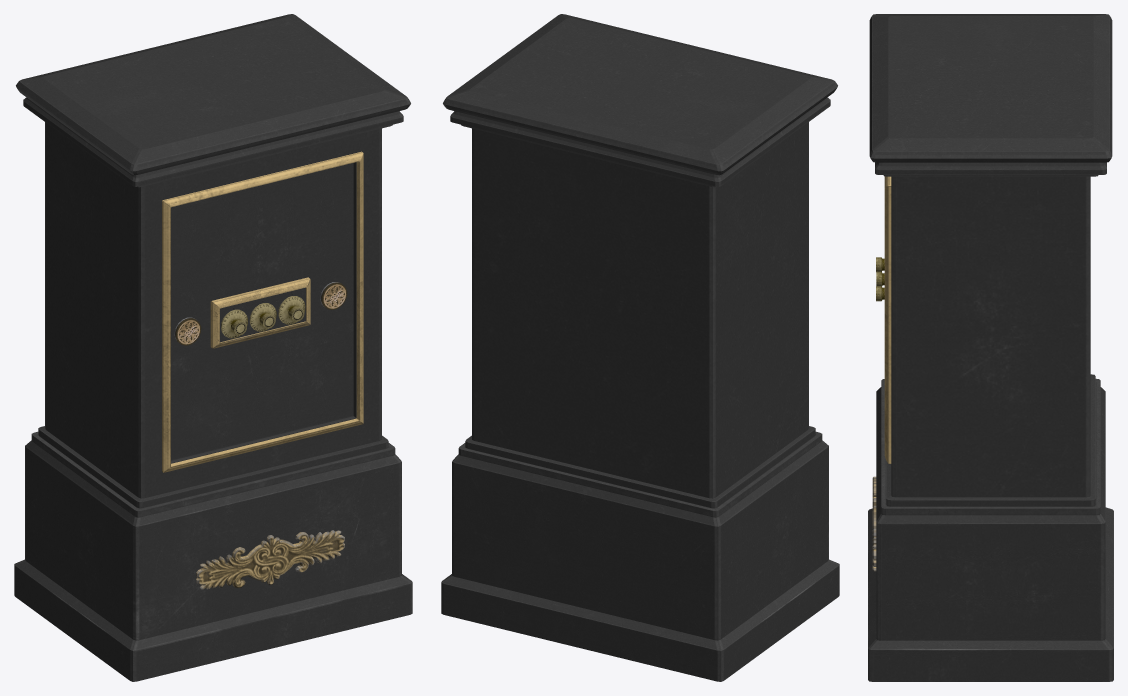
File: Safe_2.obj
3 views of the same model, side by side, from view 1: azimuth 30°, elevation 25°; view 2: azimuth 150°, elevation 25°; view 3: azimuth 270°, elevation 25° (orthographic). The views are drawn at different scales.
Visible parts, largest first — view 1: Safe, Door, Lock1, Lock, Lock2; view 2: Safe; view 3: Safe.
Part boxes in pixels (x1,y1,x2,y2): Safe: (14,14,412,681); Door: (171,163,353,460); Lock1: (278,296,305,324); Lock: (221,309,247,338); Lock2: (249,303,276,331); Safe: (441,14,839,681); Safe: (868,14,1113,681).
Size of the model in its own units: 71.93 by 127 by 52.93.
1 material, 1 textured.
